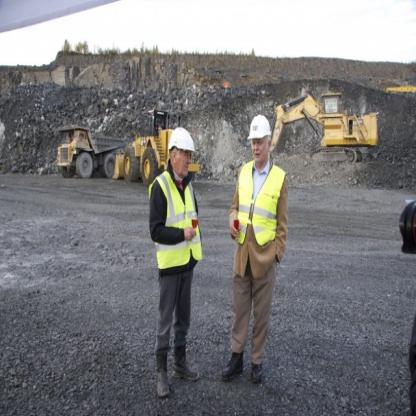bull_dozer/loader/grader: (110, 112, 200, 185)
dump_truck: (51, 117, 125, 182)
excavator: (272, 90, 382, 172)
person: (139, 119, 213, 400), (223, 92, 288, 388)
